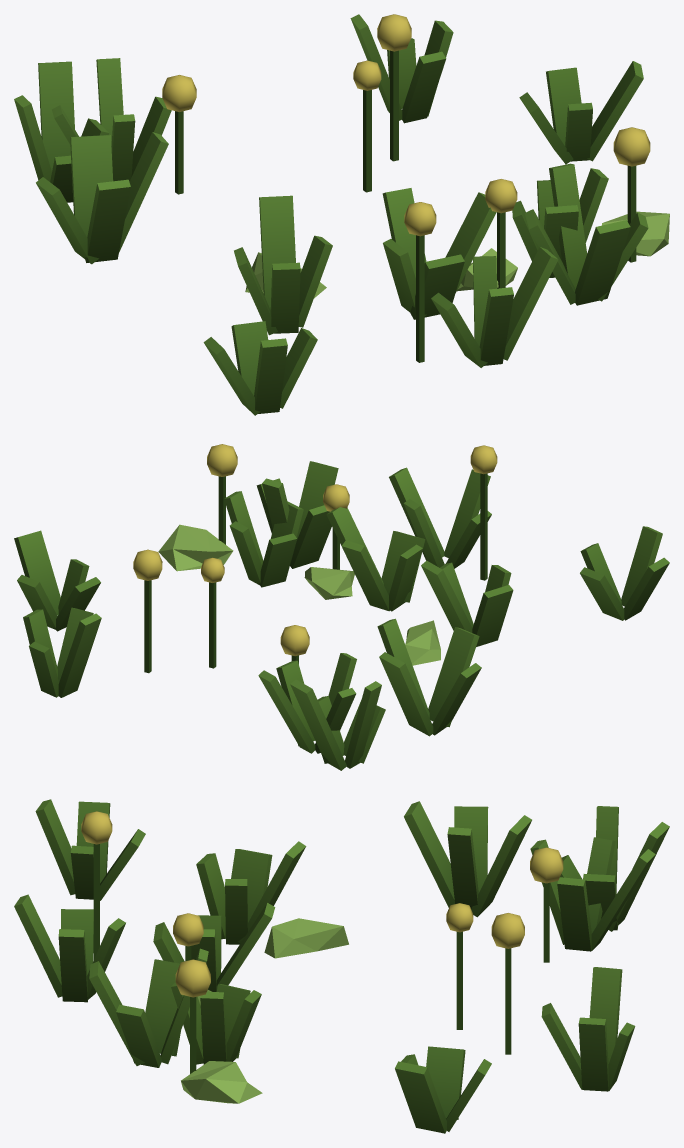
The model's file is grass-tuft-scatter.glb.
3 views of the same model, one above another, from view 1: azimuth 30°, elevation 25°; view 2: azimuth 150°, elevation 25°; view 3: azimuth 270°, elevation 25° (orthographic). The views are drawn at different scales.
Visible parts, largest first — view 1: grass_tuft_scatter; view 2: grass_tuft_scatter; view 3: grass_tuft_scatter.
Boxes of the visible parts, box(x1,y1,x2,y2) form: grass_tuft_scatter: box(14, 14, 669, 415); grass_tuft_scatter: box(14, 444, 669, 770); grass_tuft_scatter: box(14, 799, 669, 1133).
Bounding box in the file's own units: 1.73 × 0.4468 × 1.69.
